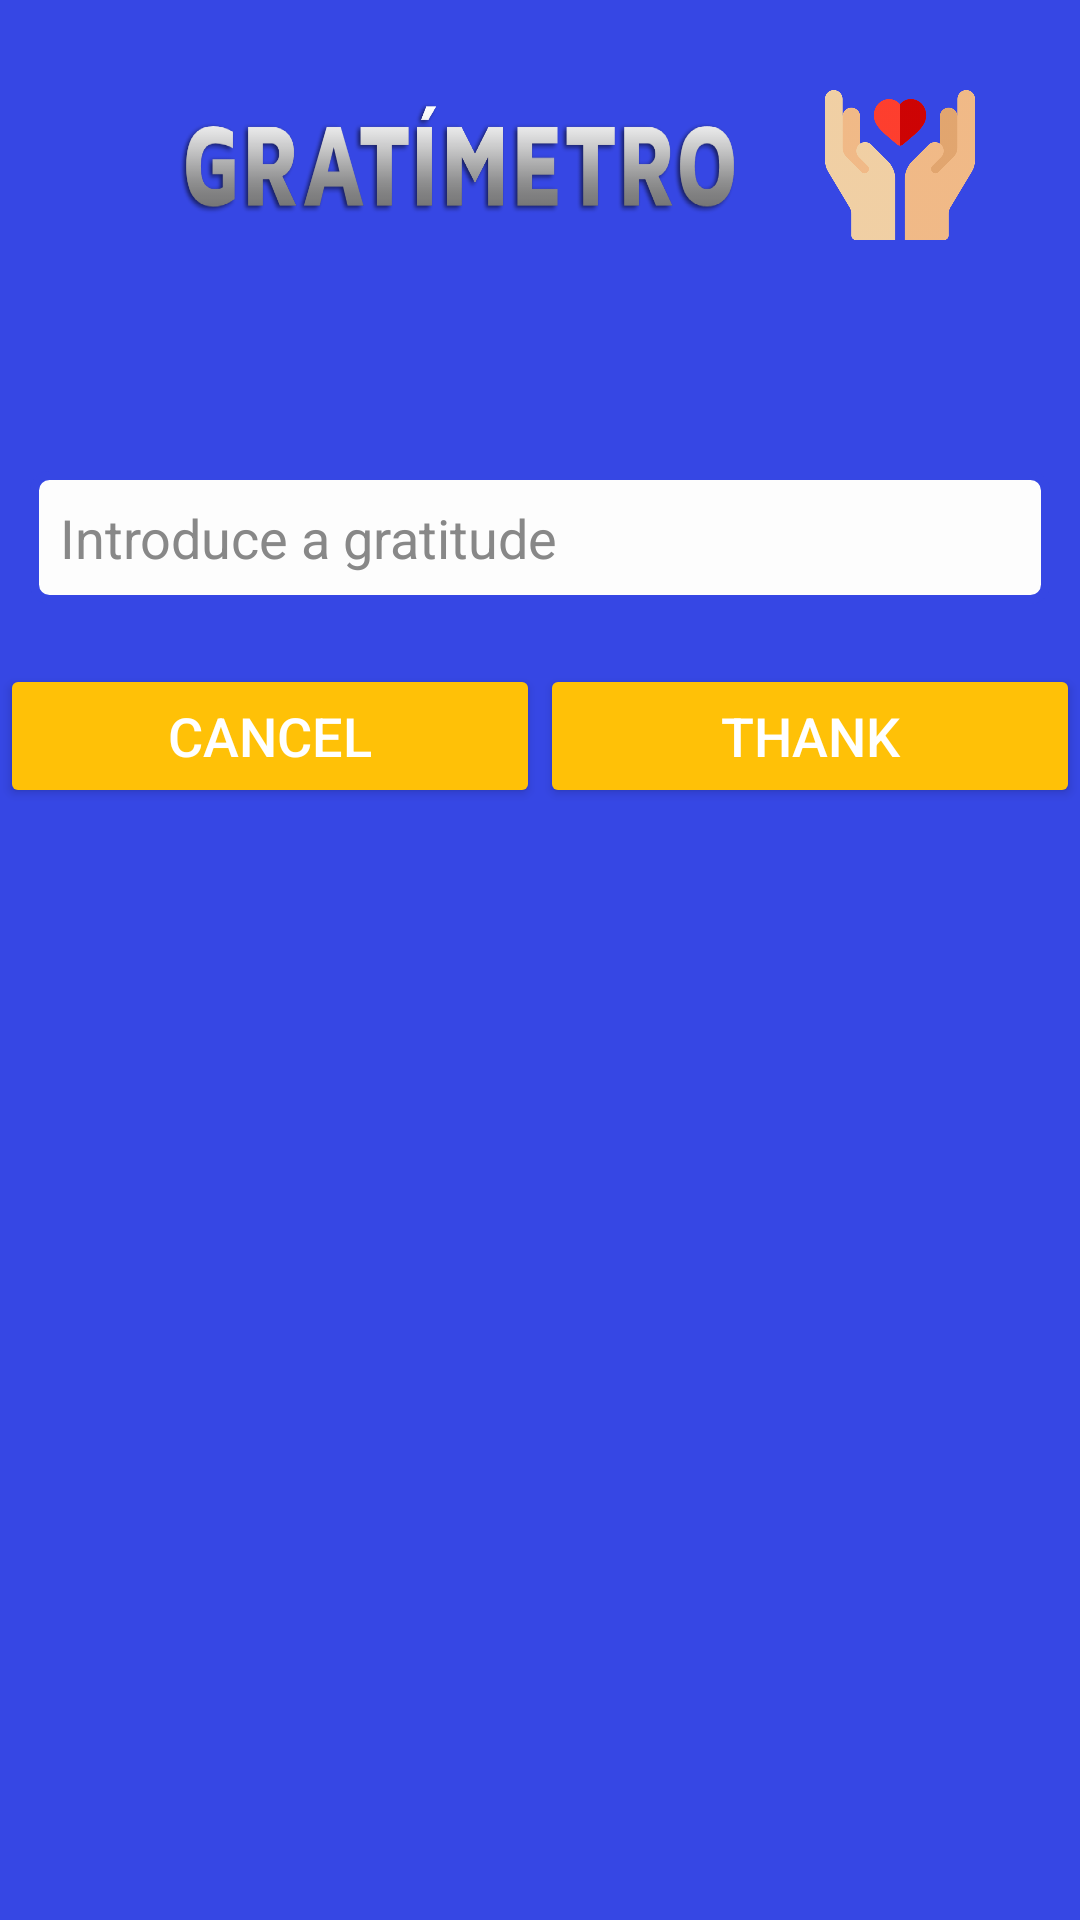

Where to tap for icons on this 1080w x 1920h app screen, as (x,y):
hands: (900,165)
